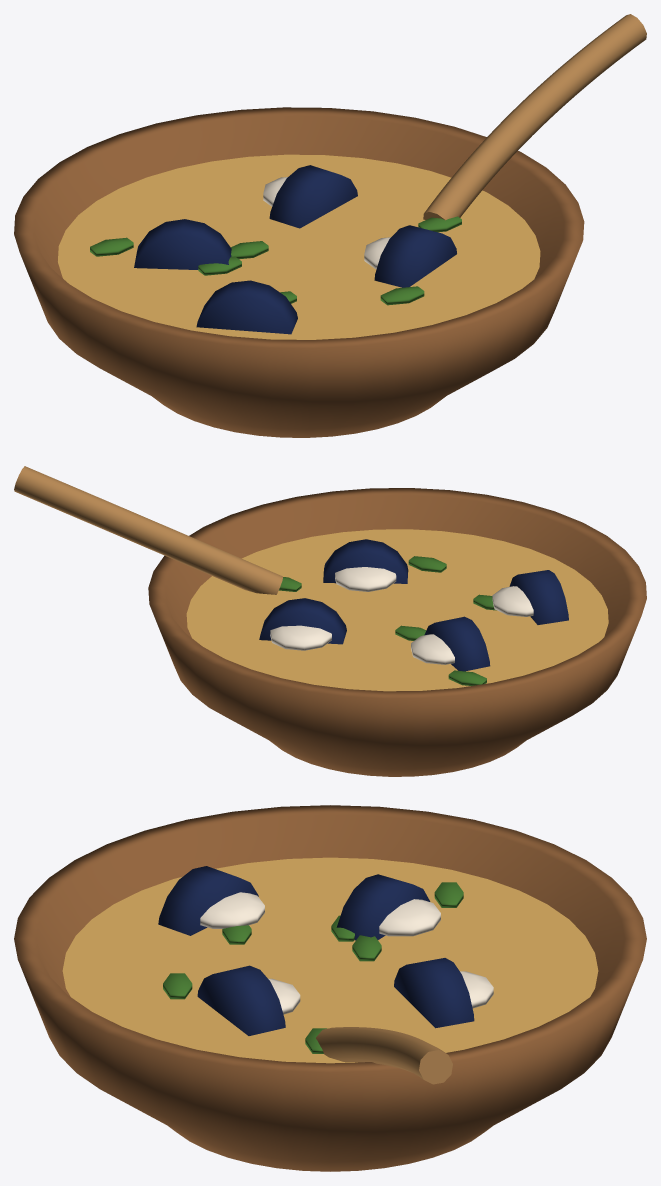
Rendered from tiefseeaal_suppe.glb.
3 views of the same model, one above another, from view 1: azimuth 30°, elevation 25°; view 2: azimuth 150°, elevation 25°; view 3: azimuth 270°, elevation 25° (orthographic). The views are drawn at different scales.
Parts seen in each view (by area): view 1: schale, inhalt, r, aalstueck.003, aalstueck, aalstueck.002, aalstueck.001, Sphere.006, Sphere.007; view 2: schale, inhalt, r, aalstueck.001, aalstueck.002, aalstueck, aalstueck.003, Sphere.002, Sphere.001, Sphere, Sphere.003, Sphere.006 (+1 smaller); view 3: schale, inhalt, r, aalstueck.001, aalstueck.002, aalstueck.003, aalstueck, Sphere.003, Sphere, Sphere.002, Sphere.001, Sphere.006 (+2 smaller).
Boxes of the visible parts, bbox=[...] form: schale: bbox=[14, 107, 584, 437]; inhalt: bbox=[58, 154, 540, 339]; r: bbox=[423, 14, 646, 220]; aalstueck.003: bbox=[196, 280, 297, 334]; aalstueck: bbox=[134, 219, 231, 269]; aalstueck.002: bbox=[269, 165, 357, 228]; aalstueck.001: bbox=[374, 225, 456, 287]; Sphere.006: bbox=[380, 286, 424, 305]; Sphere.007: bbox=[90, 237, 133, 256]; schale: bbox=[148, 488, 646, 776]; inhalt: bbox=[186, 529, 608, 691]; r: bbox=[14, 466, 282, 594]; aalstueck.001: bbox=[323, 539, 408, 583]; aalstueck.002: bbox=[259, 598, 346, 644]; aalstueck: bbox=[424, 616, 490, 671]; aalstueck.003: bbox=[509, 570, 568, 624]; Sphere.002: bbox=[270, 625, 331, 650]; Sphere.001: bbox=[335, 567, 396, 591]; Sphere: bbox=[411, 634, 454, 664]; Sphere.003: bbox=[492, 586, 533, 616]; Sphere.006: bbox=[408, 556, 446, 572]; schale: bbox=[14, 805, 646, 1171]; inhalt: bbox=[62, 857, 598, 1063]; r: bbox=[316, 1027, 452, 1084]; aalstueck.001: bbox=[197, 965, 285, 1035]; aalstueck.002: bbox=[394, 958, 474, 1028]; aalstueck.003: bbox=[158, 866, 258, 935]; aalstueck: bbox=[336, 874, 430, 940]; Sphere.003: bbox=[200, 892, 264, 928]; Sphere: bbox=[379, 899, 440, 936]; Sphere.002: bbox=[460, 971, 493, 1008]; Sphere.001: bbox=[268, 978, 300, 1014]; Sphere.006: bbox=[163, 973, 192, 999].
Bounding box in the file's own units: 0.2317 × 0.0797 × 0.18.
